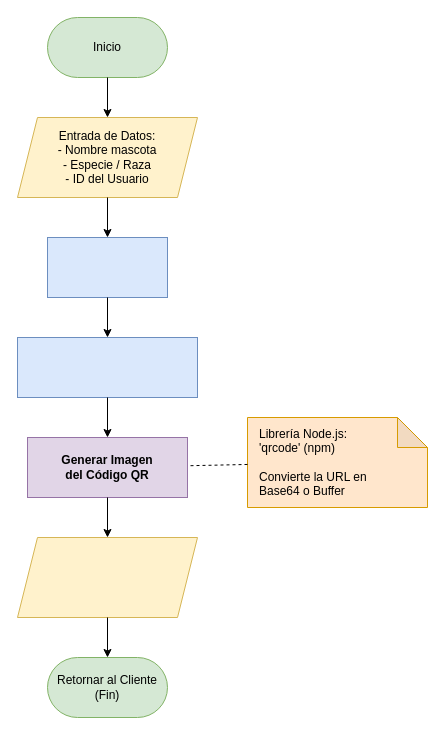
Image size: 445x735. Some labels were removed from this diagram. Each missing label, with the centre of its shape:
"Construir URL del Perfil: ej: /pet/{id_mascota}" goes at [107,367].
"Guardar Mascota en Base de Datos" goes at [107,267].
"Salida de Datos: - Imagen QR (Base64) - Datos de mascota - Enlace Público" goes at [107,577].
